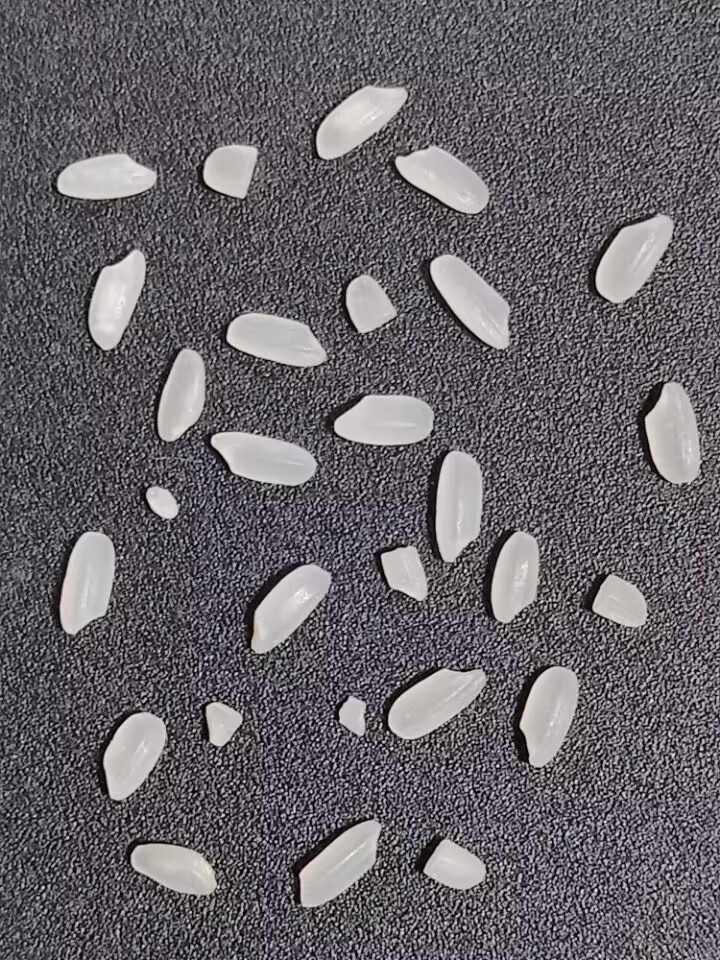broken: (200, 139, 260, 202), (590, 570, 649, 633), (342, 273, 398, 334), (422, 838, 487, 890), (380, 545, 427, 602), (199, 699, 245, 749), (333, 695, 374, 737), (143, 484, 182, 524)
rice: (245, 560, 335, 658), (427, 253, 516, 352), (383, 662, 490, 742), (297, 816, 386, 912), (312, 81, 411, 161), (592, 212, 676, 305), (221, 307, 330, 372), (84, 247, 150, 354), (517, 664, 582, 770), (394, 145, 492, 215), (98, 710, 169, 804), (327, 390, 442, 447), (642, 379, 703, 485), (57, 529, 116, 636), (208, 431, 318, 487), (154, 344, 210, 445), (435, 449, 483, 563), (52, 152, 157, 203), (131, 842, 218, 898), (491, 532, 539, 623)
